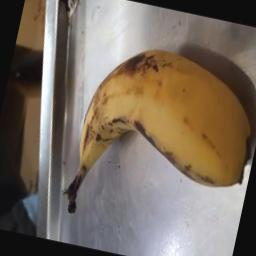Banana Overripe: (47, 27, 256, 238)
